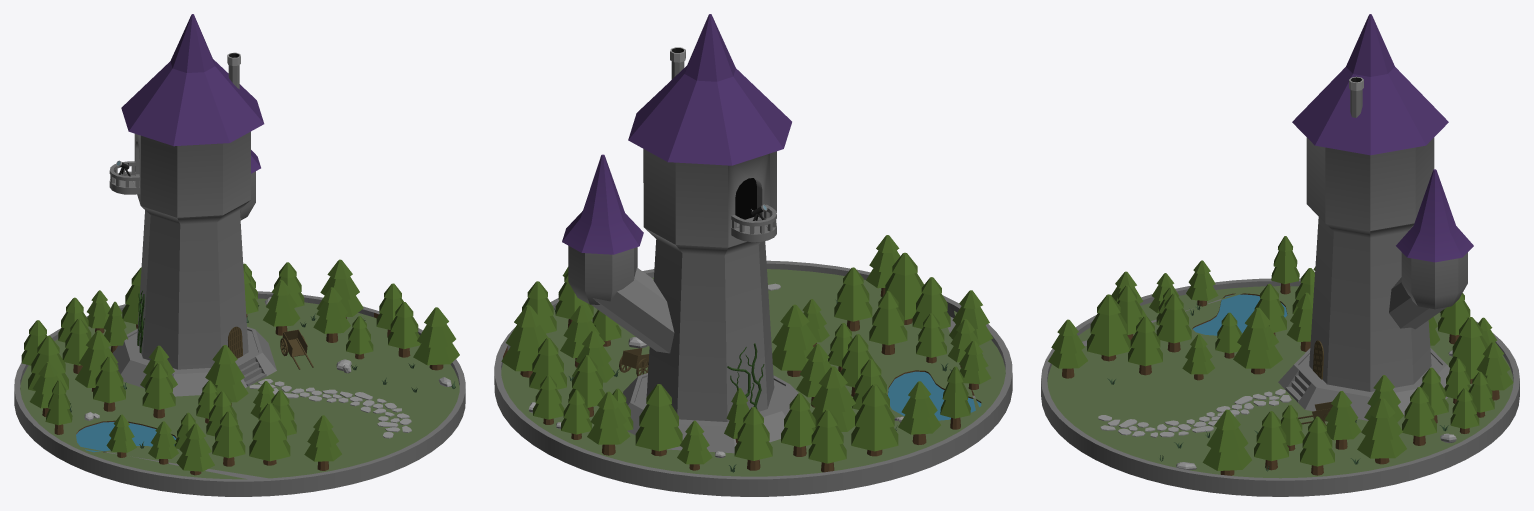
The model's file is WizardTowerModel.fbx.
3 views of the same model, side by side, from view 1: azimuth 30°, elevation 25°; view 2: azimuth 150°, elevation 25°; view 3: azimuth 270°, elevation 25° (orthographic). The views are drawn at different scales.
Parts seen in each view (by area): view 1: _6_09_07___Low_Poly_Wizards_Tower_obj_cleaner_gles; view 2: _6_09_07___Low_Poly_Wizards_Tower_obj_cleaner_gles; view 3: _6_09_07___Low_Poly_Wizards_Tower_obj_cleaner_gles.
Part boxes in pixels (bbox=[...]): _6_09_07___Low_Poly_Wizards_Tower_obj_cleaner_gles: bbox=[14, 14, 465, 496]; _6_09_07___Low_Poly_Wizards_Tower_obj_cleaner_gles: bbox=[494, 14, 1012, 496]; _6_09_07___Low_Poly_Wizards_Tower_obj_cleaner_gles: bbox=[1041, 14, 1519, 496].
Size of the model in its own units: 344 by 300 by 344.
